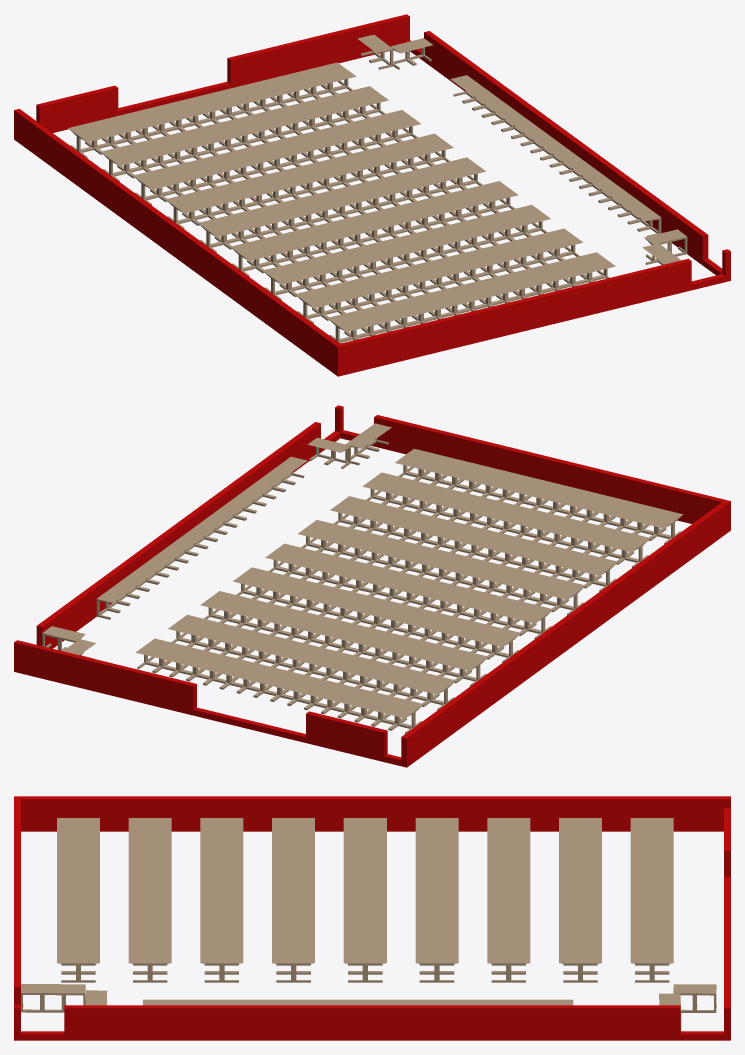
Rendered from Bas.glb.
3 views of the same model, one above another, from view 1: azimuth 30°, elevation 25°; view 2: azimuth 150°, elevation 25°; view 3: azimuth 270°, elevation 25° (orthographic). The views are drawn at different scales.
Parts seen in each view (by area): view 1: Mesh_Mesh_head_geo.001_lambert2SG.001; view 2: Mesh_Mesh_head_geo.001_lambert2SG.001; view 3: Mesh_Mesh_head_geo.001_lambert2SG.001.
Boxes of the visible parts, <box> form: Mesh_Mesh_head_geo.001_lambert2SG.001: <box>14,14,730,376</box>; Mesh_Mesh_head_geo.001_lambert2SG.001: <box>14,405,730,767</box>; Mesh_Mesh_head_geo.001_lambert2SG.001: <box>14,796,730,1040</box>.
Bounding box in the file's own units: 70 × 5 × 100.
